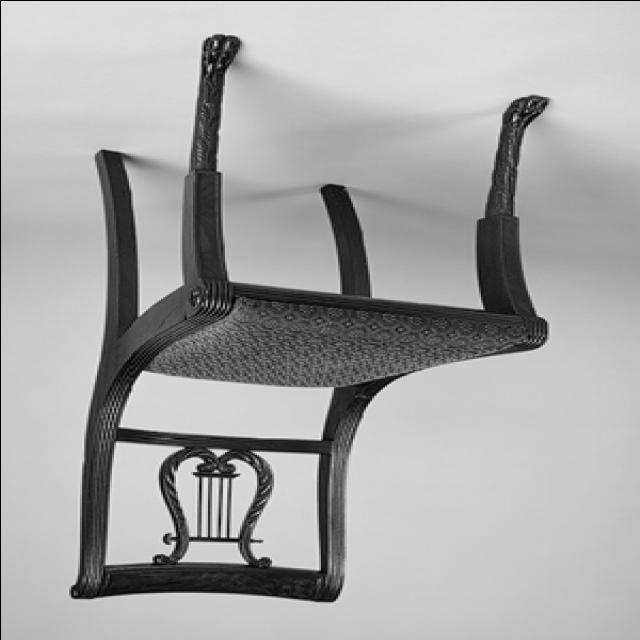chair: (61, 32, 549, 604)
